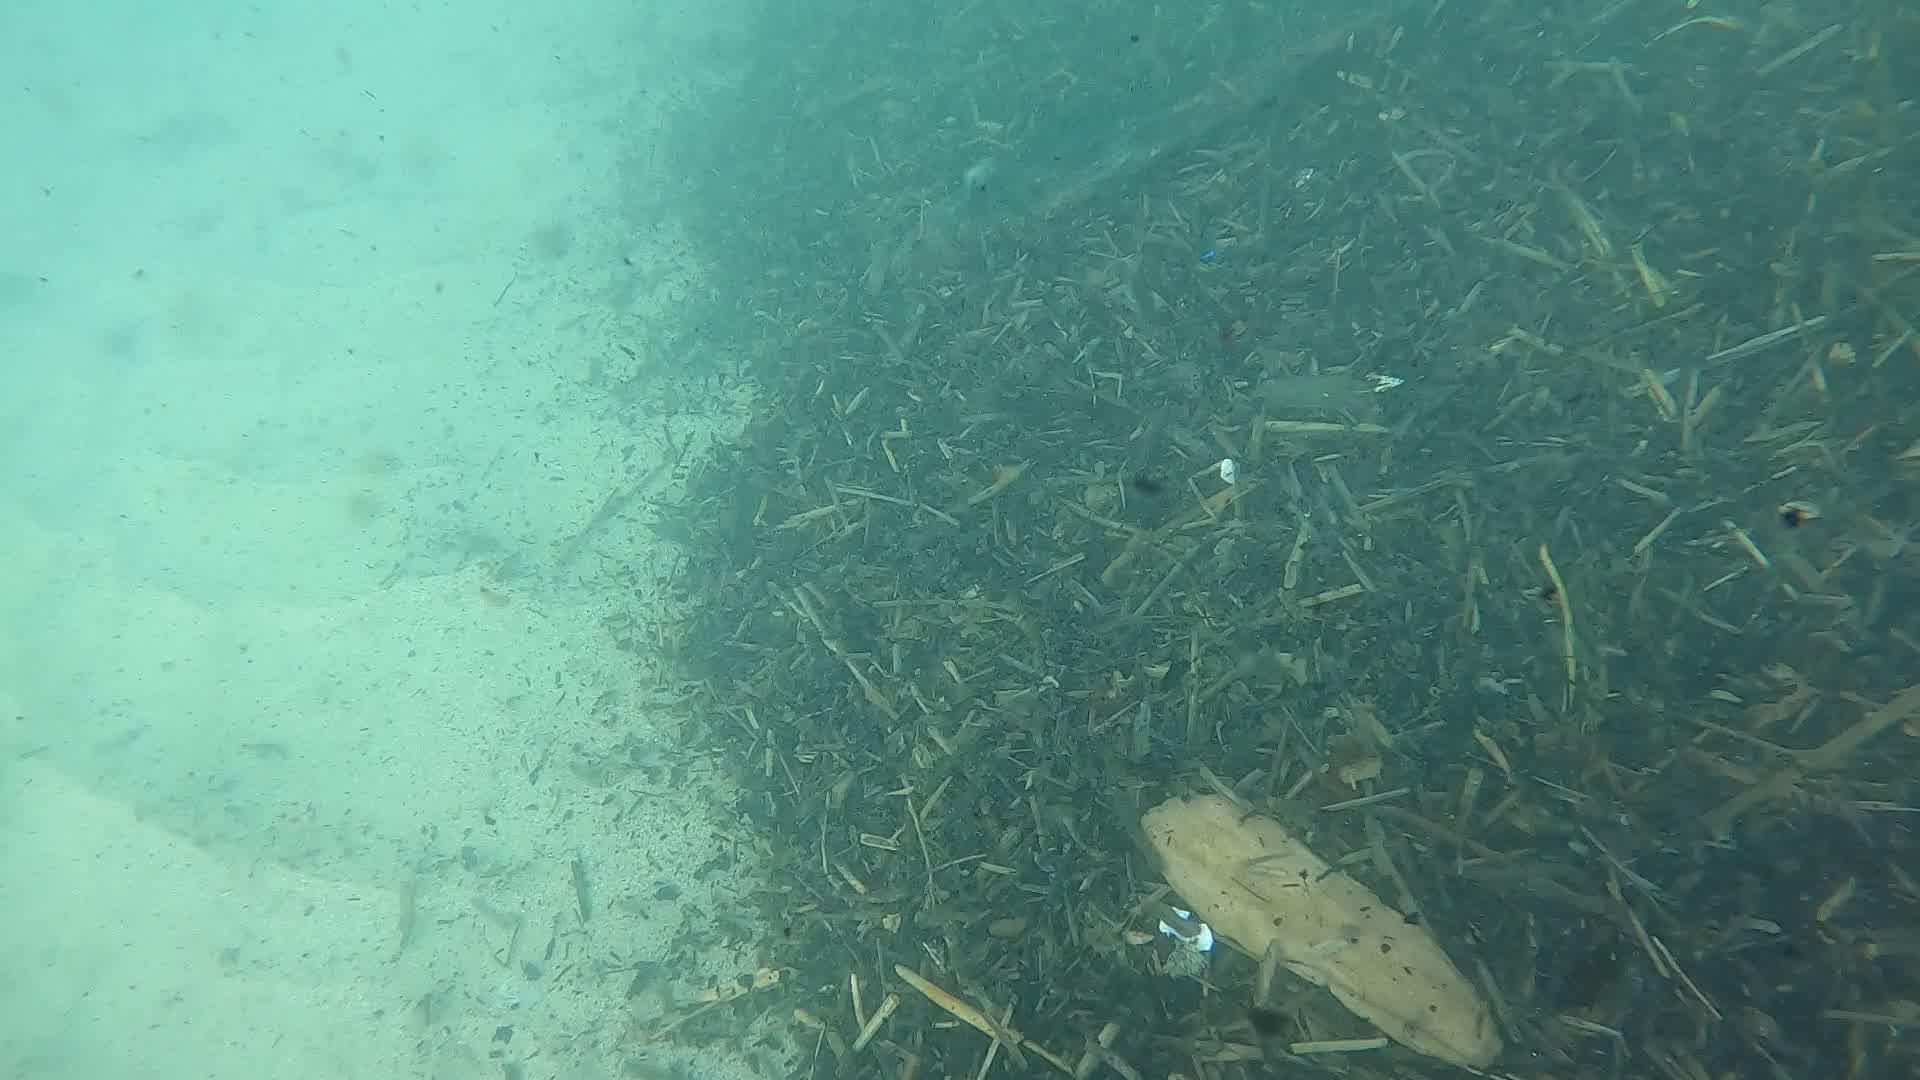wood: (1138, 789, 1510, 1077)
